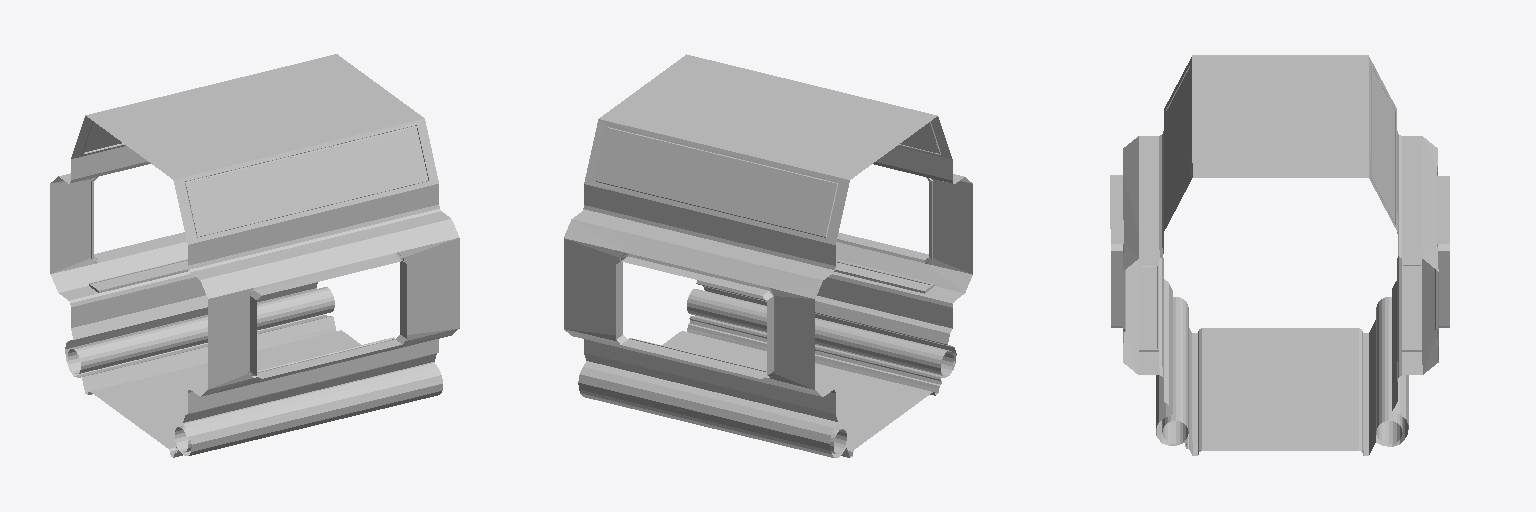
Rendered from space corridor.obj.
3 renders of one model, left to right at view 1: azimuth 30°, elevation 25°; view 2: azimuth 150°, elevation 25°; view 3: azimuth 270°, elevation 25°, orthographic.
Parts seen in each view (by area): view 1: hallway pCube809group35group1, group1pCube809group36 hallway; view 2: hallway pCube809group35group1, group1pCube809group36 hallway; view 3: hallway pCube809group35group1, group1pCube809group36 hallway.
Part boxes in pixels (bbox=[...]): hallway pCube809group35group1: bbox=[50, 54, 459, 457]; group1pCube809group36 hallway: bbox=[91, 330, 360, 451]; hallway pCube809group35group1: bbox=[564, 54, 972, 457]; group1pCube809group36 hallway: bbox=[662, 331, 932, 451]; hallway pCube809group35group1: bbox=[1110, 55, 1449, 455]; group1pCube809group36 hallway: bbox=[1199, 328, 1361, 451].
Size of the model in its own units: 12.23 by 12.8 by 14.22.